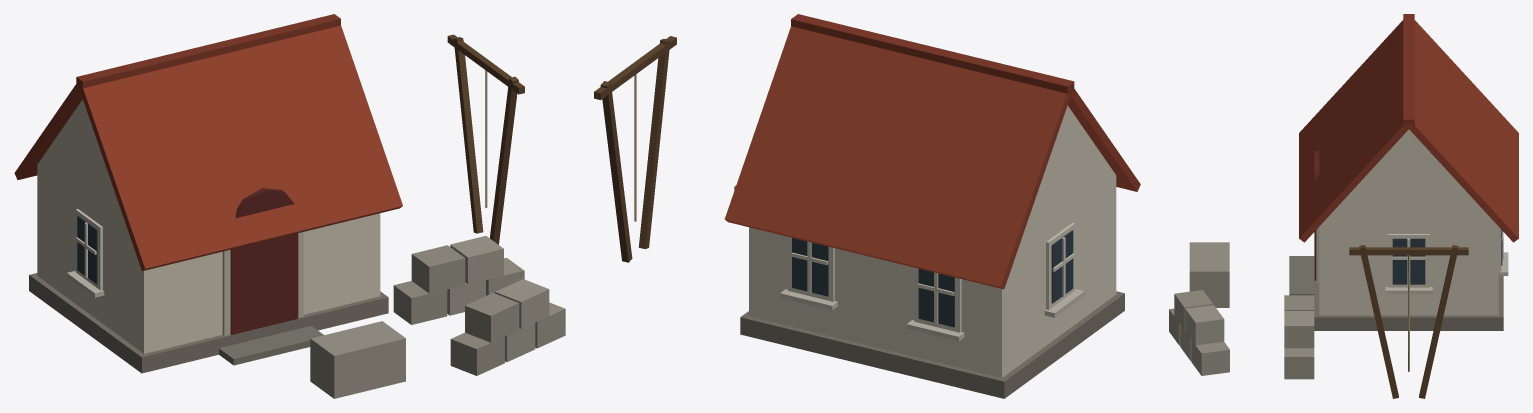
File: procedural_mason@4.glb
3 views of the same model, side by side, from view 1: azimuth 30°, elevation 25°; view 2: azimuth 150°, elevation 25°; view 3: azimuth 270°, elevation 25° (orthographic). The views are drawn at different scales.
Parts seen in each view (by area): view 1: part_0; view 2: part_0; view 3: part_0.
Boxes of the visible parts, x1,y1,x2,y2 form: part_0: [14, 14, 565, 398]; part_0: [594, 14, 1140, 398]; part_0: [1169, 14, 1518, 398].
Size of the model in its own units: 7.97 by 4.81 by 7.02.
